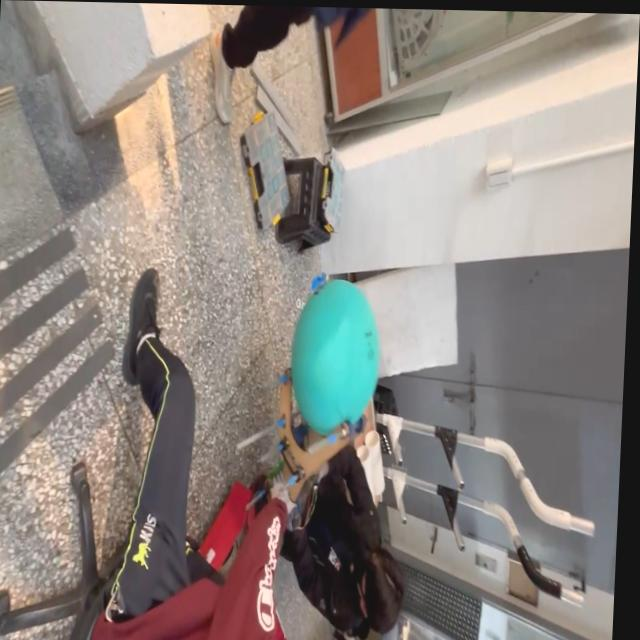ALGAE: (286, 274, 383, 437)
